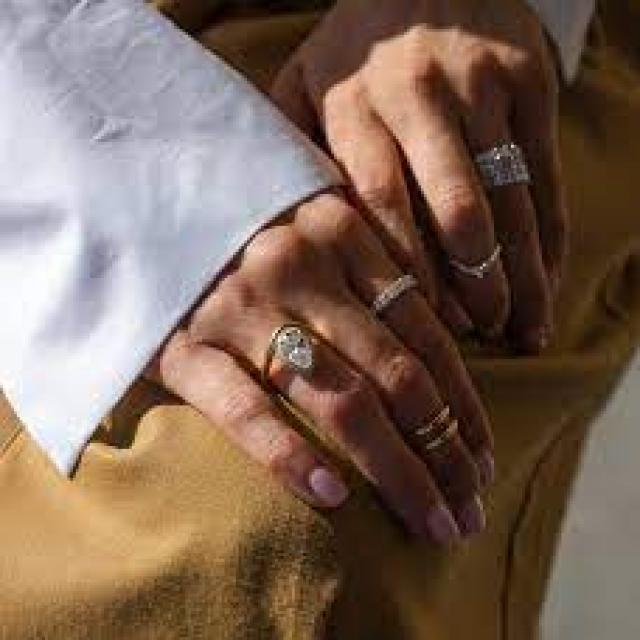Ring: (242, 317, 336, 393), (463, 133, 550, 202), (400, 400, 480, 465), (366, 257, 436, 327), (446, 226, 521, 291)
